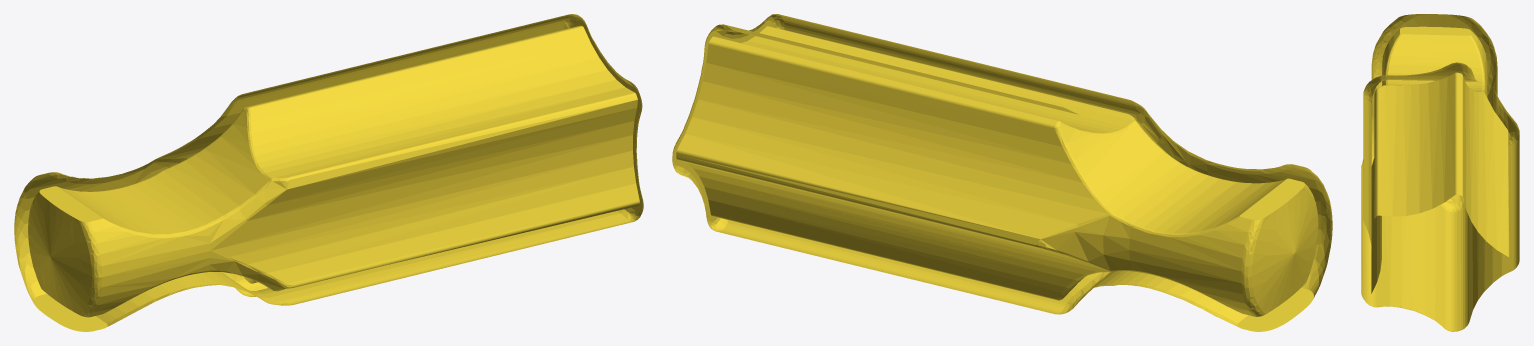
3 views of the same model, side by side, from view 1: azimuth 30°, elevation 25°; view 2: azimuth 150°, elevation 25°; view 3: azimuth 270°, elevation 25° (orthographic). The views are drawn at different scales.
Visible parts, largest first — view 1: 10015841; view 2: 10015841; view 3: 10015841.
Boxes of the visible parts, x1,y1,x2,y2 form: 10015841: [14, 14, 643, 331]; 10015841: [672, 14, 1332, 331]; 10015841: [1361, 14, 1519, 331].
Size of the model in its own units: 1 by 0.3395 by 0.3279.
